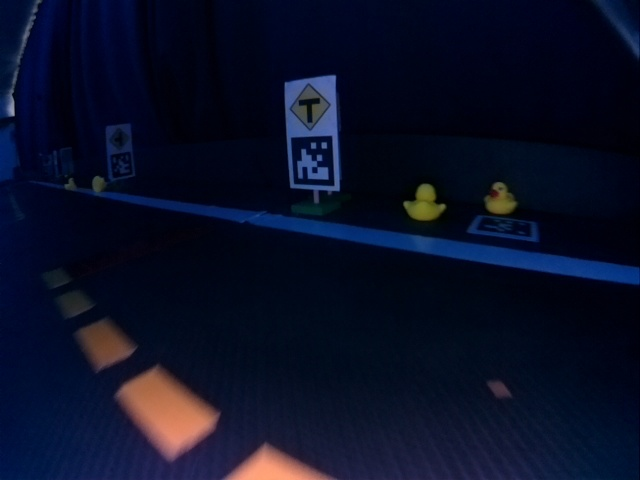Duckie: (403, 183, 446, 220), (484, 183, 517, 214), (92, 176, 106, 192), (64, 178, 75, 190)
Intersection sign: (288, 82, 332, 133), (108, 128, 130, 150)
QR code: (289, 134, 334, 186), (470, 217, 536, 240), (109, 152, 134, 178)
